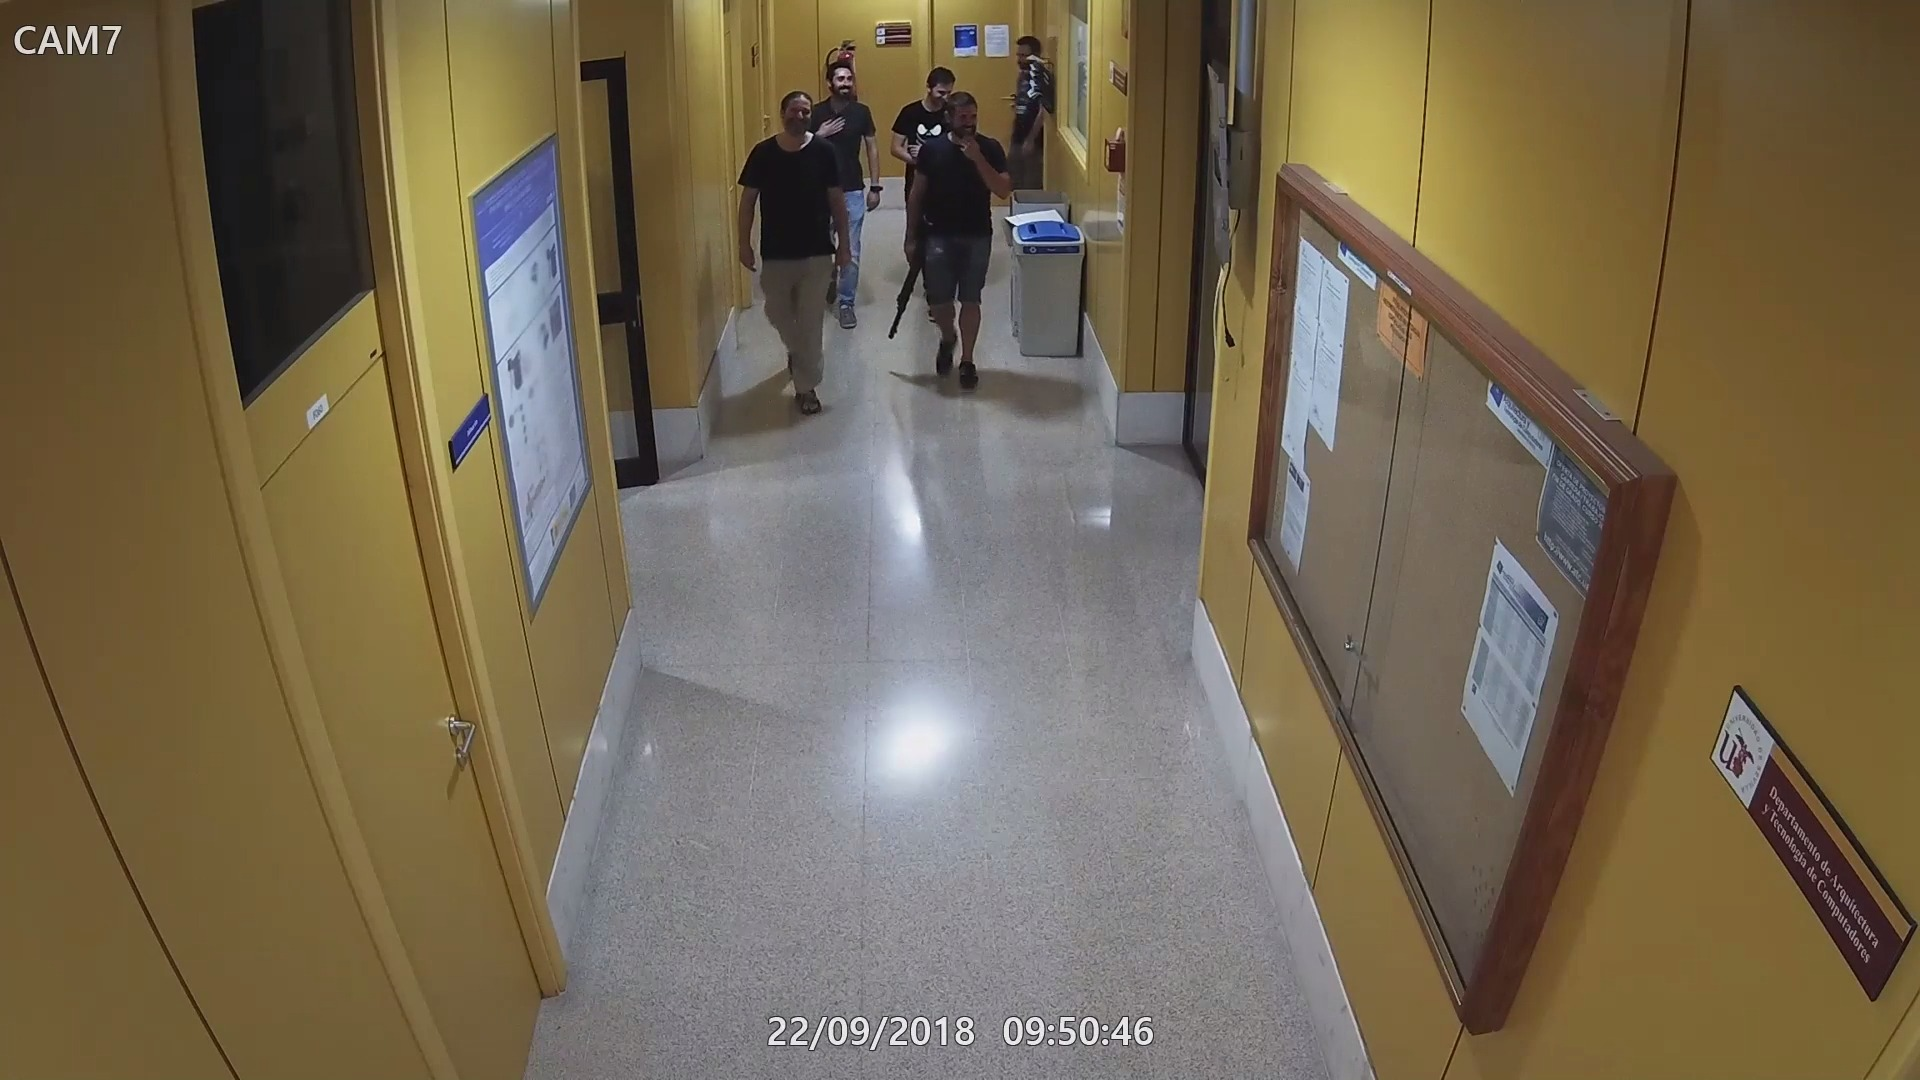Short_rifle: (887, 222, 940, 339)
